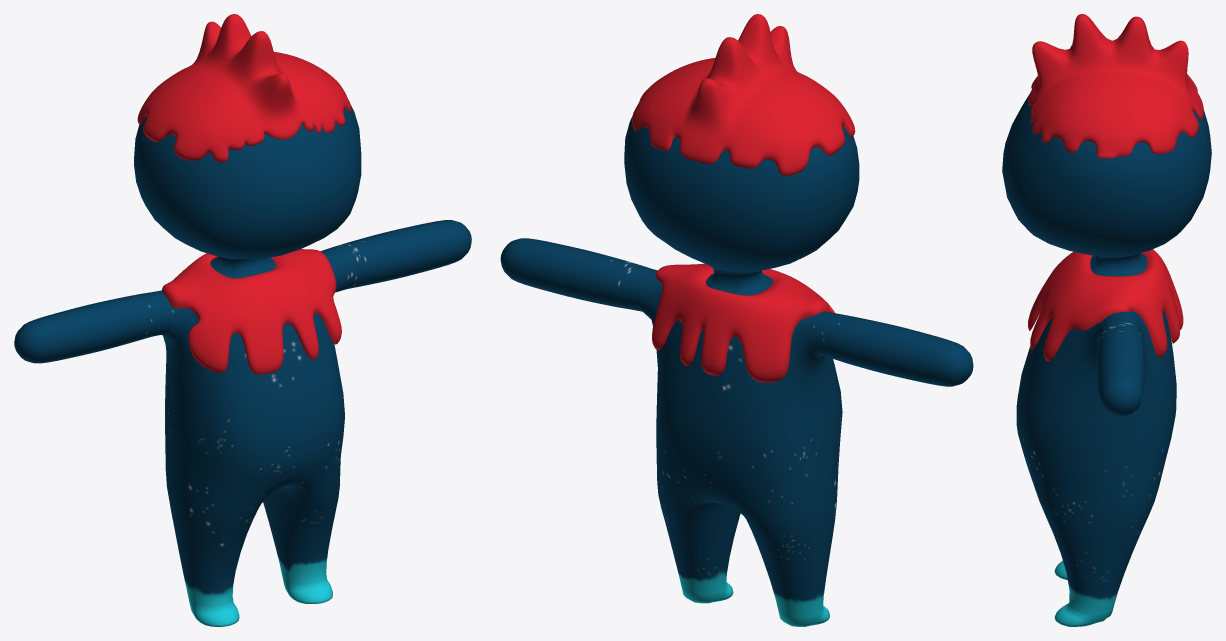
The model's file is azul.fbx.
3 renders of one model, left to right at view 1: azimuth 30°, elevation 25°; view 2: azimuth 150°, elevation 25°; view 3: azimuth 270°, elevation 25°, orthographic. The views are drawn at different scales.
Visible parts, largest first — view 1: BASE.004, BASE.005; view 2: BASE.004, BASE.005; view 3: BASE.004, BASE.005.
Part boxes in pixels (box(x1,y1,x2,y2)): BASE.004: box(14, 105, 471, 626); BASE.005: box(137, 14, 351, 374); BASE.004: box(500, 117, 973, 626); BASE.005: box(632, 14, 855, 382); BASE.004: box(1002, 94, 1211, 626); BASE.005: box(1028, 14, 1203, 361).
Bounding box in the file's own units: 330 × 400 × 131.
